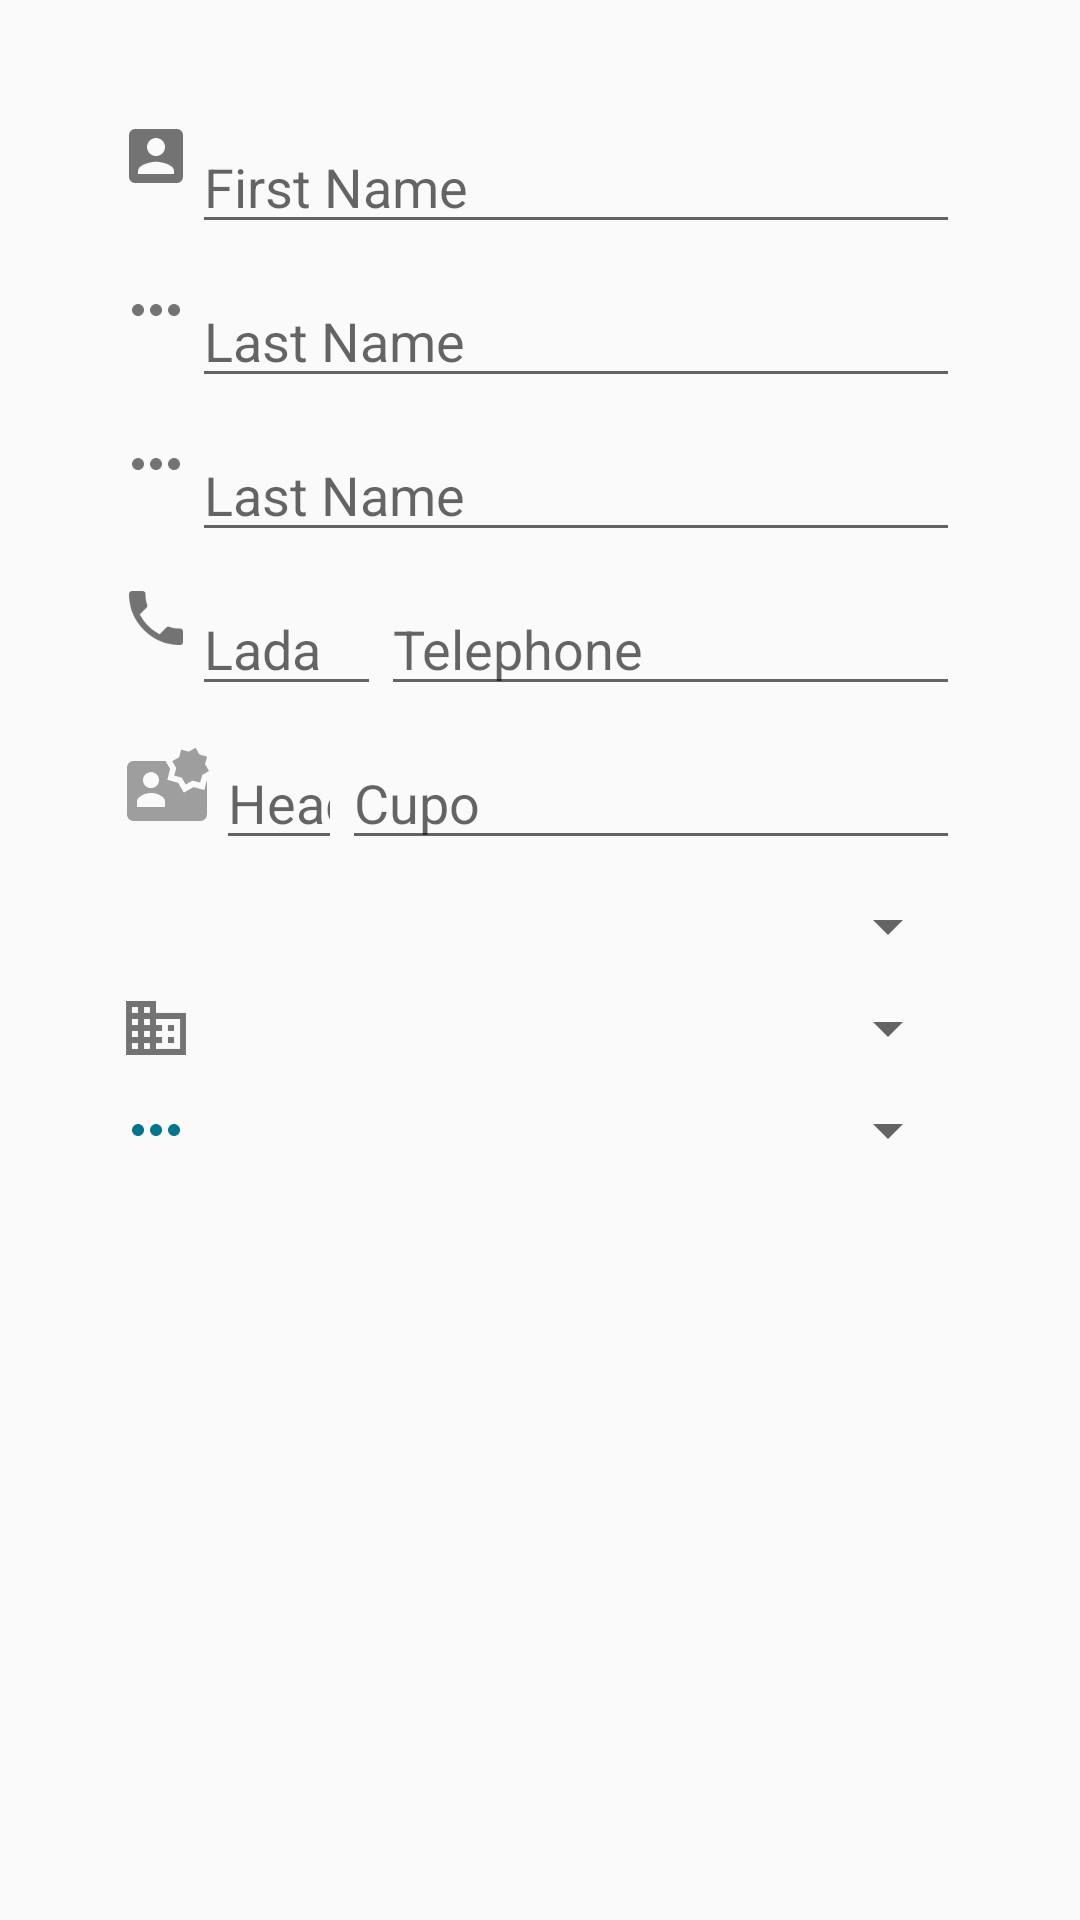

Locate icon controls on the screen. Image size 1080 × 1920, boxes as (x1, y1, x2, y2).
identificacion: (127, 748, 209, 821)
telefono: (129, 591, 183, 645)
